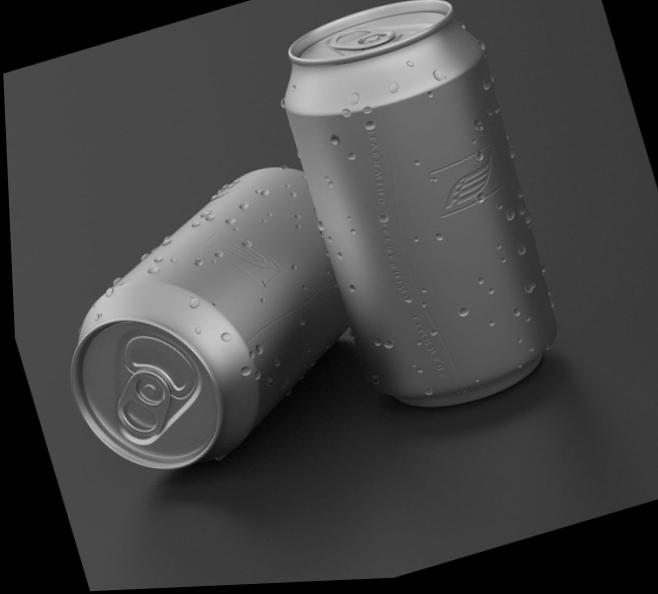metal: (283, 0, 555, 406), (71, 167, 346, 468)
